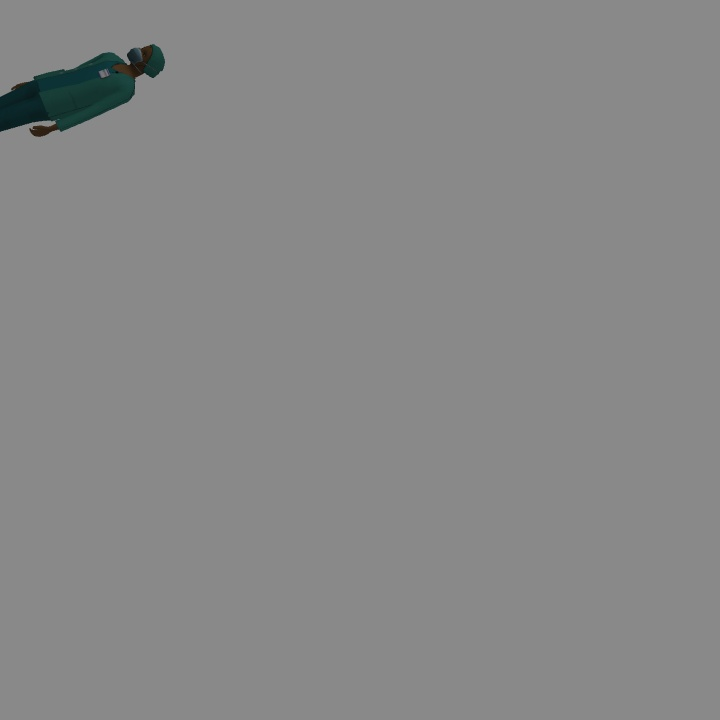victim: (1, 45, 164, 138)
